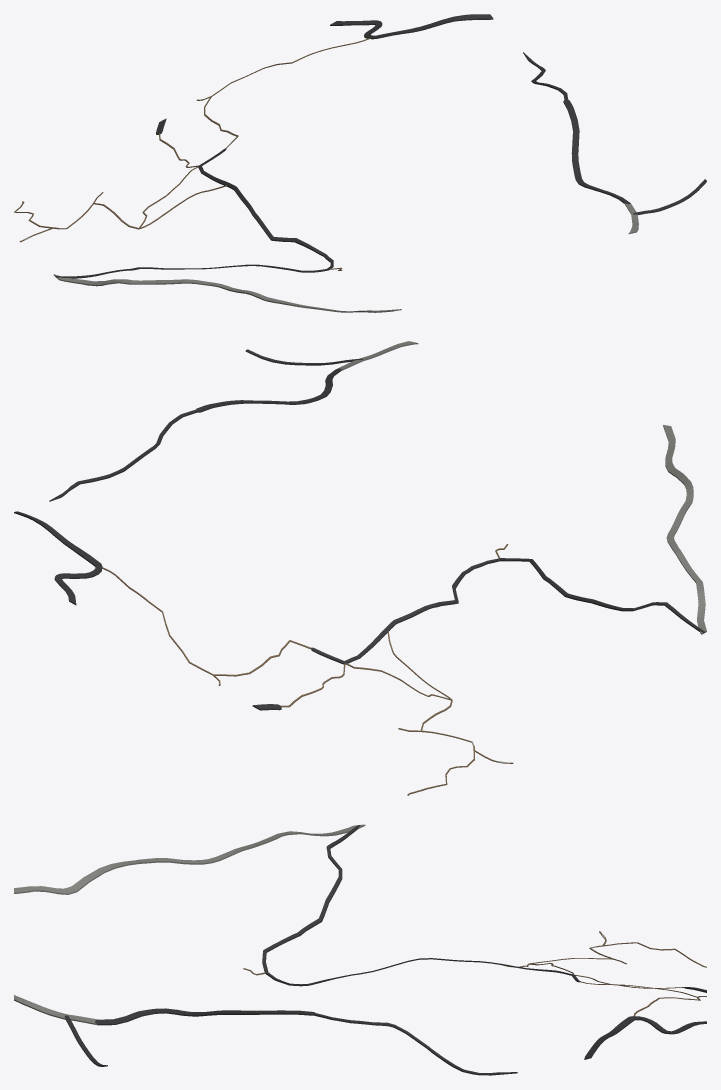
3 renders of one model, top to bottom at view 1: azimuth 30°, elevation 25°; view 2: azimuth 150°, elevation 25°; view 3: azimuth 270°, elevation 25°, orthographic. The views are drawn at different scales.
Bounding box in the file's own units: 587 × 146 × 583.
